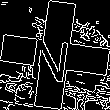N_N: (31, 27, 79, 83)
